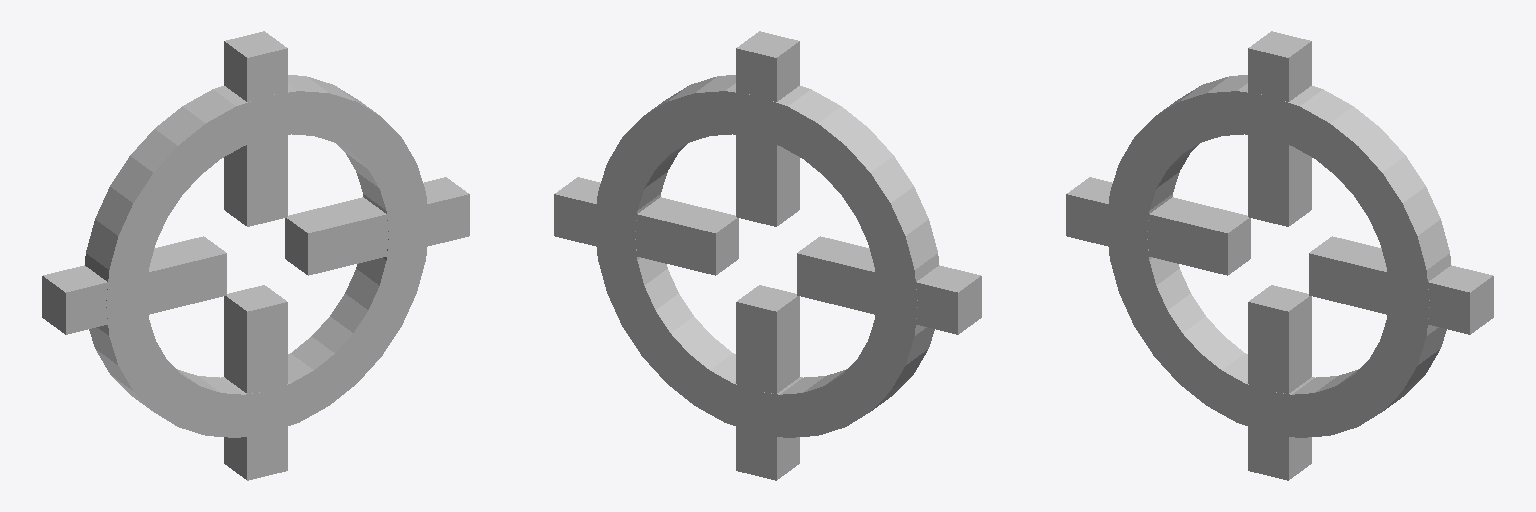
File: quaddamage.obj
The picture shows the model from 3 angles: view 1: azimuth 30°, elevation 25°; view 2: azimuth 150°, elevation 25°; view 3: azimuth 330°, elevation 25°; orthographic projection.
Visible parts, largest first — view 1: Cube; view 2: Cube; view 3: Cube.
Part boxes in pixels (left/top/right/bottom): Cube: left=42, top=31, right=469, bottom=480; Cube: left=554, top=31, right=981, bottom=480; Cube: left=1066, top=31, right=1493, bottom=480.
Size of the model in its own units: 0.625 by 0.625 by 0.063.